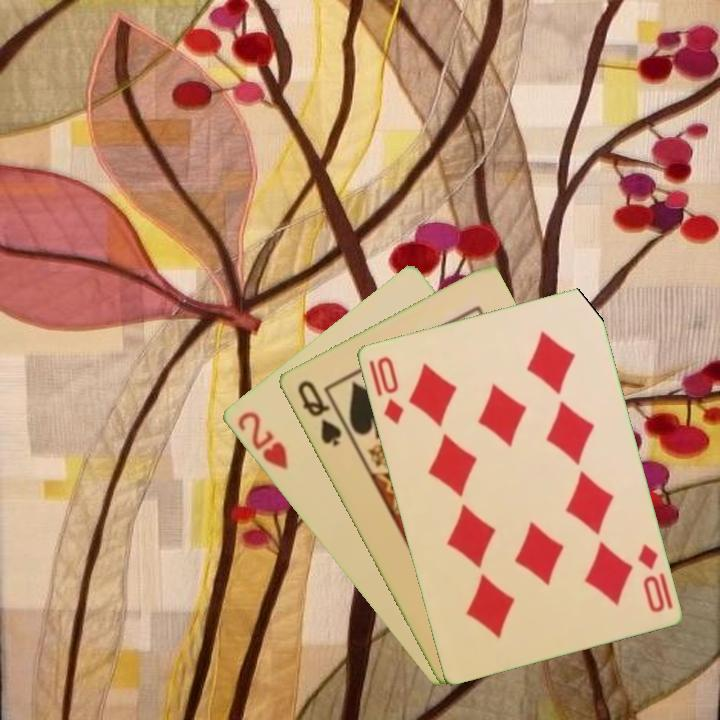10d: (633, 540, 675, 615), (373, 352, 406, 428)
2h: (233, 408, 291, 472)
Qs: (293, 376, 345, 450)
